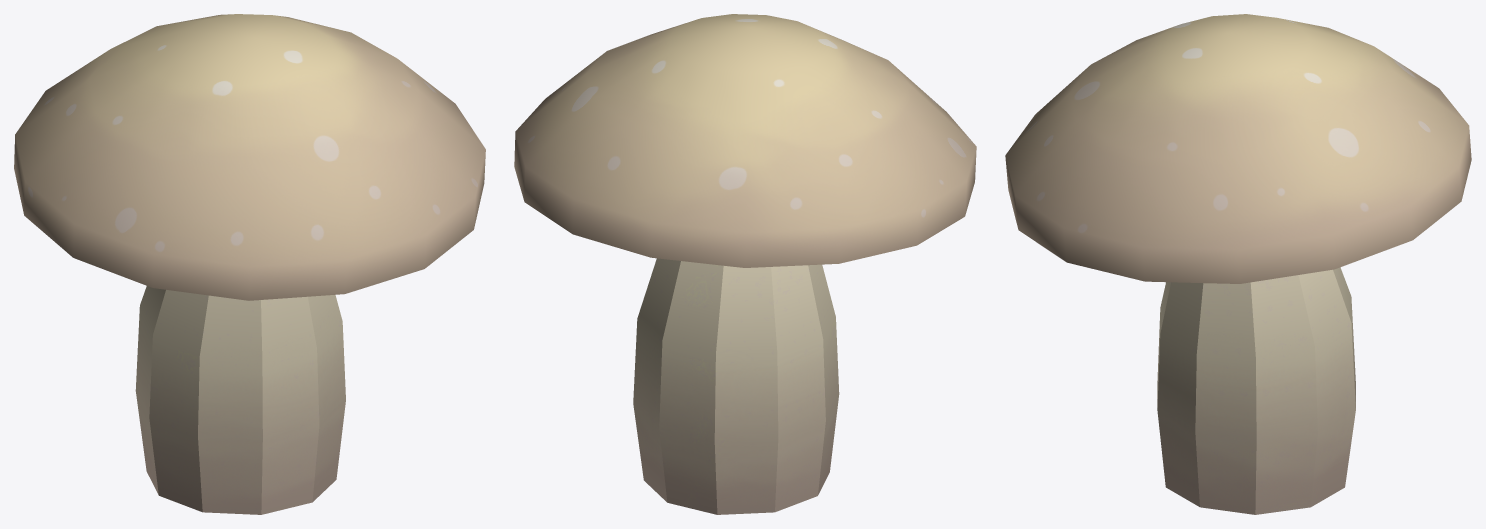
File: env_plumpMush_export_01.fbx
The picture shows the model from 3 angles, left to right: view 1: azimuth 30°, elevation 25°; view 2: azimuth 150°, elevation 25°; view 3: azimuth 270°, elevation 25°; orthographic projection. The views are drawn at different scales.
Parts seen in each view (by area): view 1: pCylinder9; view 2: pCylinder9; view 3: pCylinder9.
Part boxes in pixels (<box>): pCylinder9: <box>14,14,485,514</box>; pCylinder9: <box>514,14,976,514</box>; pCylinder9: <box>1005,14,1471,514</box>.
Bounding box in the file's own units: 4.43 × 4.67 × 4.47.
1 material, 1 textured.
